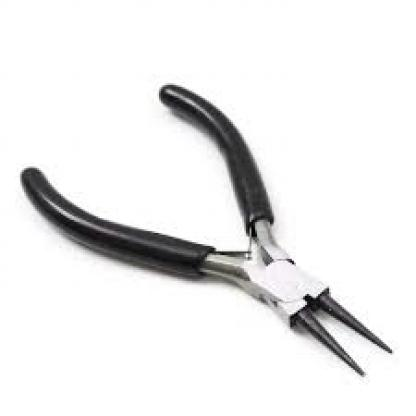Pliers: (17, 75, 397, 382)
